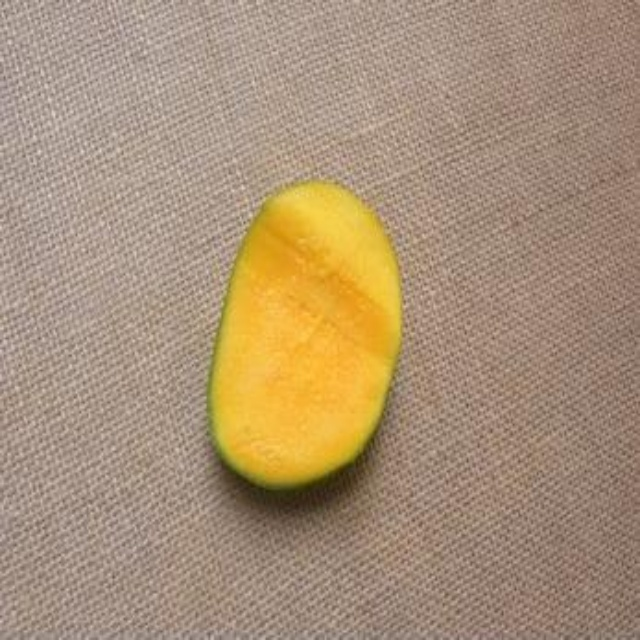mango: (215, 182, 399, 497)
